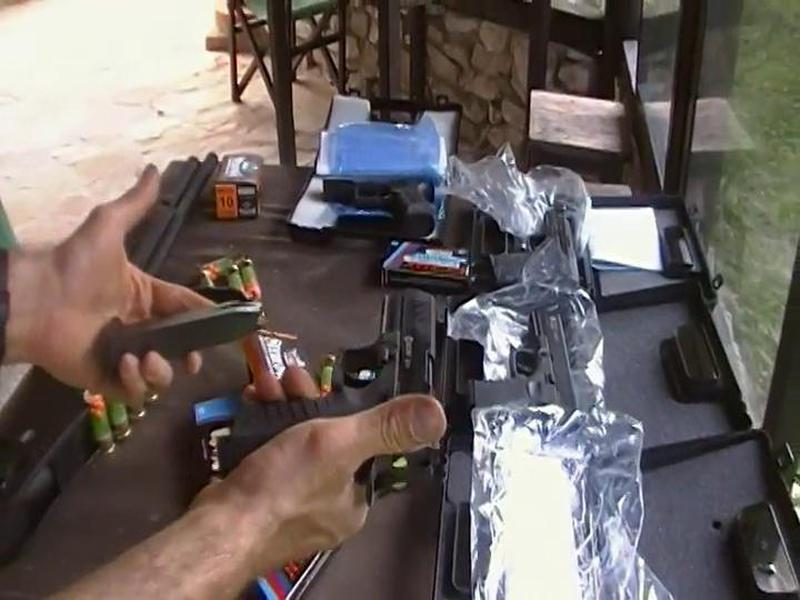Pistola: (233, 276, 457, 495)
